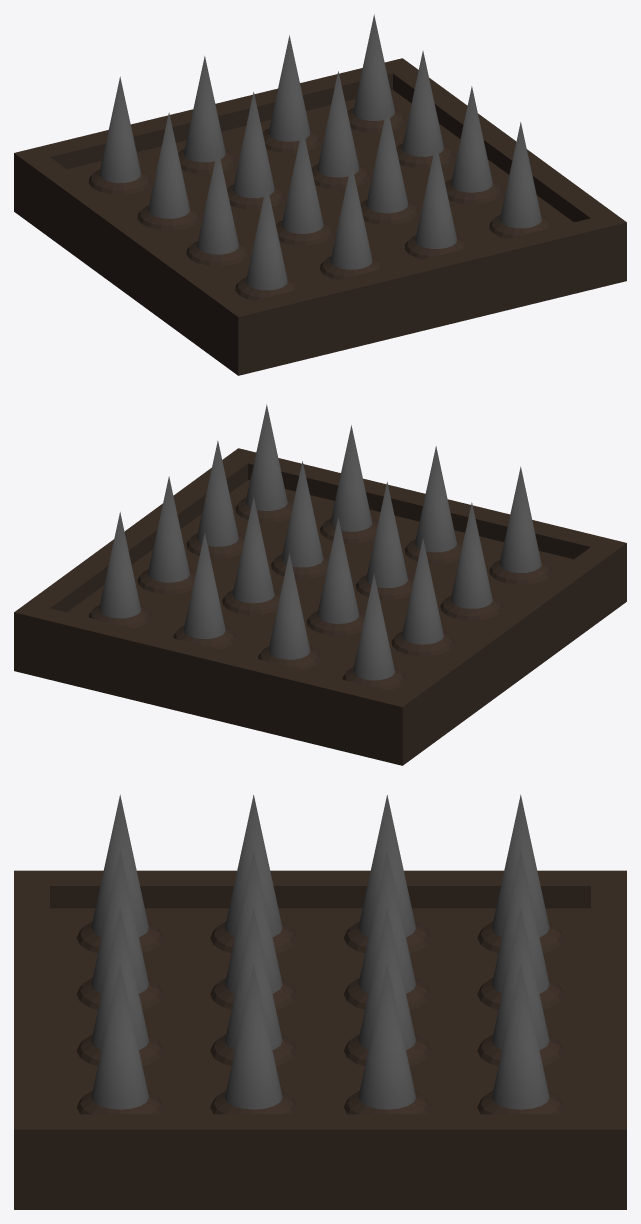
The model's file is spikes.glb.
3 views of the same model, one above another, from view 1: azimuth 30°, elevation 25°; view 2: azimuth 150°, elevation 25°; view 3: azimuth 270°, elevation 25° (orthographic). The views are drawn at different scales.
Parts seen in each view (by area): view 1: Cube.005, Cone, Cylinder.005; view 2: Cube.005, Cone, Cylinder.005; view 3: Cube.005, Cone, Cylinder.005.
Boxes of the visible parts, box(x1,y1,x2,y2) form: Cube.005: box(14, 58, 626, 375); Cone: box(99, 14, 541, 290); Cylinder.005: box(88, 107, 552, 300); Cube.005: box(14, 448, 626, 765); Cone: box(99, 404, 541, 680); Cylinder.005: box(88, 497, 552, 690); Cube.005: box(14, 870, 626, 1209); Cone: box(91, 794, 549, 1109); Cylinder.005: box(76, 921, 564, 1114).
Size of the model in its own units: 2 by 0.7261 by 2.
